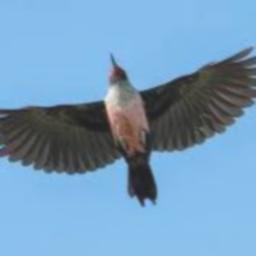Woodpecker: (0, 47, 256, 207)
